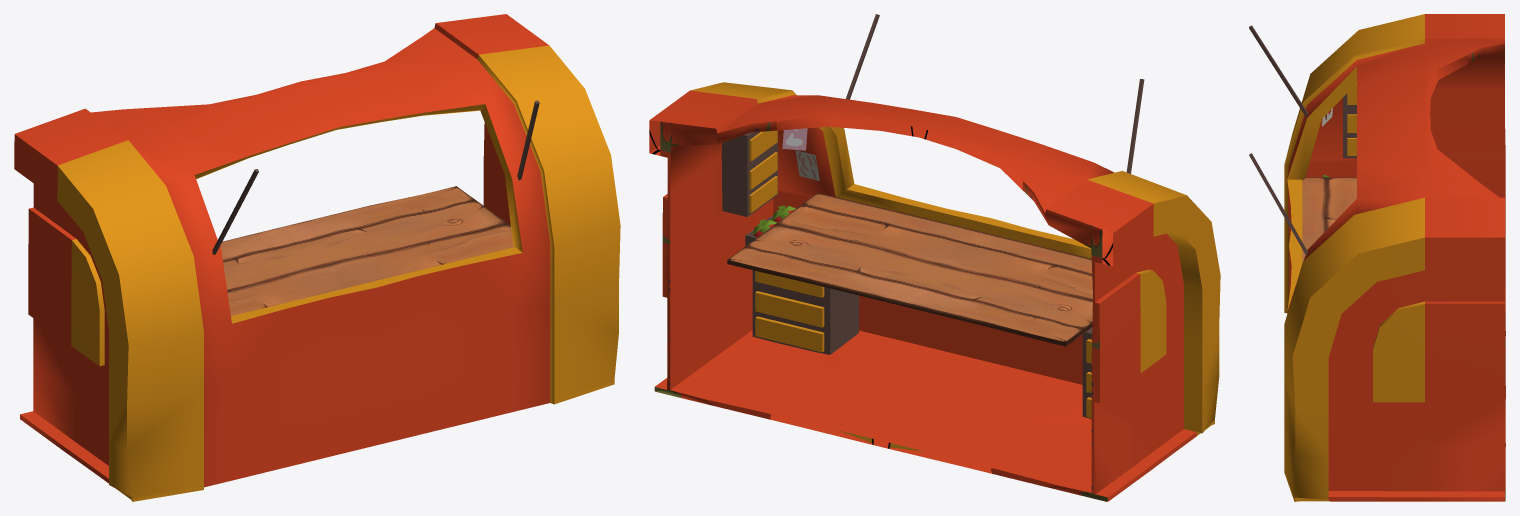
File: hotdog_trailer_holztisch.fbx
3 renders of one model, left to right at view 1: azimuth 30°, elevation 25°; view 2: azimuth 150°, elevation 25°; view 3: azimuth 270°, elevation 25°, orthographic. The views are drawn at different scales.
Parts seen in each view (by area): view 1: trailer, stick; view 2: trailer, box, box_2, poster, stick; view 3: trailer, stick, box_2.
Boxes of the visible parts, left/top/right/bottom form: trailer: left=14, top=14, right=620, bottom=501; stick: left=212, top=100, right=539, bottom=254; trailer: left=649, top=82, right=1220, bottom=501; box: left=752, top=270, right=1092, bottom=418; box_2: left=721, top=130, right=777, bottom=216; poster: left=782, top=128, right=819, bottom=180; stick: left=846, top=14, right=1144, bottom=173; trailer: left=1284, top=14, right=1505, bottom=501; stick: left=1249, top=25, right=1308, bottom=255; box_2: left=1343, top=84, right=1356, bottom=158.
Bounding box in the file's own units: 195 × 123 × 94.53.
Materials: 9 (3 with a texture image).
